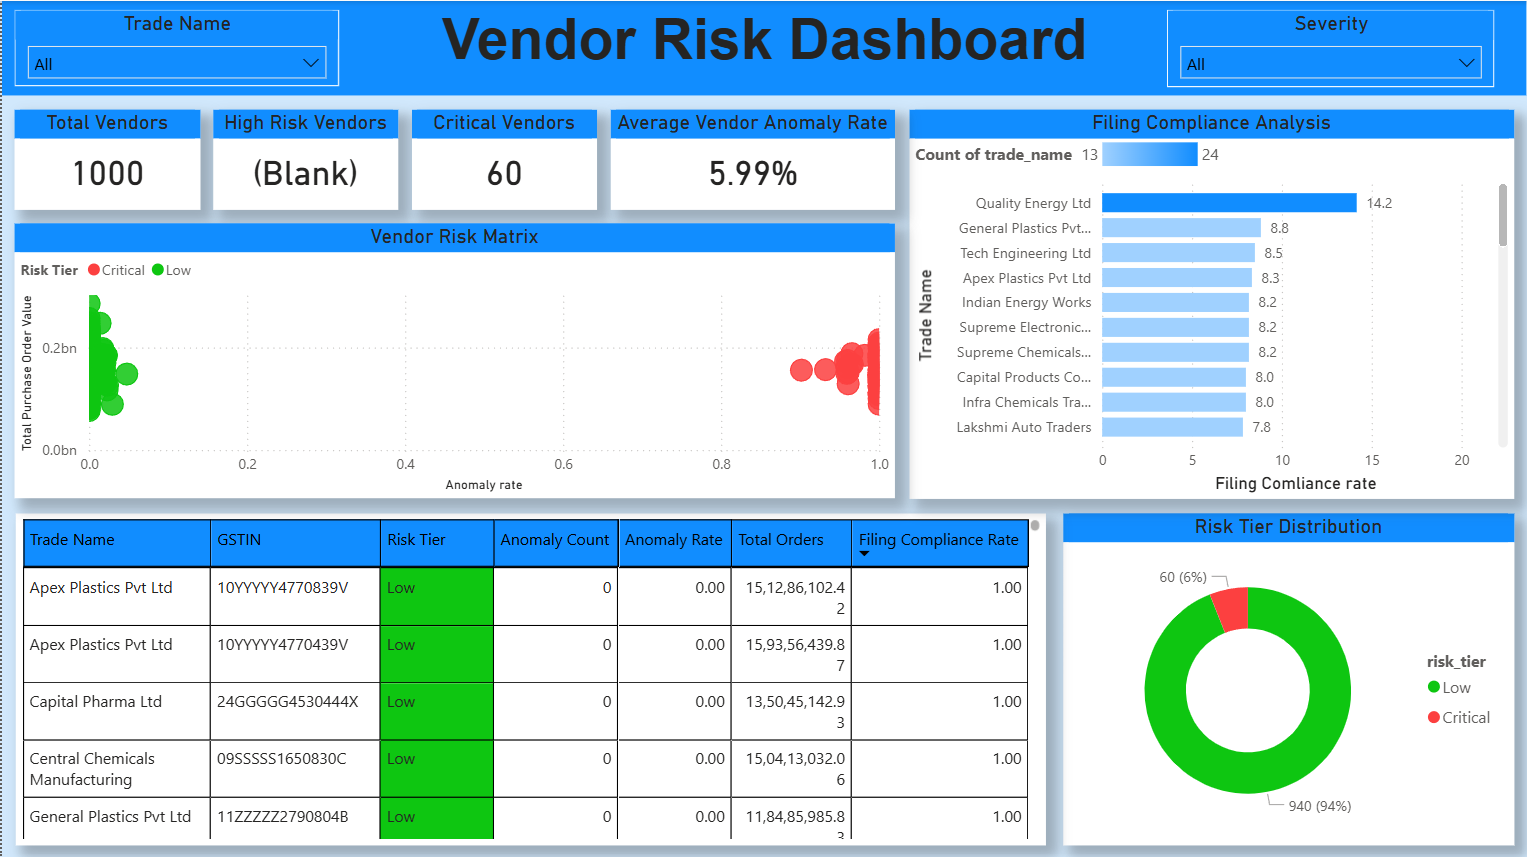

This screenshot's page, from the dashboard's own definition file:
{"tool":"powerbi","page":{"name":"Vendor Risk Dashboard","canvas":[1280,720],"ordinal":1},"visuals":[{"type":"donutChart","title":"Risk Tier Distribution","fields":{"Category":["vendor_risk.risk_tier"],"Y":["CountNonNull(vendor_risk.vendor_id)"]},"box":[890,430,378,278],"z":0},{"type":"tableEx","fields":{"Values":["vendor_risk.trade_name","vendor_risk.gstin","vendor_risk.risk_tier","vendor_risk.anomaly_count","vendor_risk.anomaly_rate","vendor_risk.total_po_value","vendor_risk.filing_compliance_rate"]},"box":[12,430,864,278],"z":1000},{"type":"barChart","title":"Filing Compliance Analysis","fields":{"Category":["vendor_risk.trade_name"],"Y":["Sum(vendor_risk.filing_compliance_rate)"]},"box":[761,91,507,326],"z":2000},{"type":"textbox","box":[0,0,1279.1,79.1],"z":3000},{"type":"slicer","title":"Severity","fields":{"Values":["vendor_risk.risk_tier"]},"box":[977.3,7.3,274.5,64.5],"z":4000},{"type":"slicer","title":"Trade Name","fields":{"Values":["vendor_risk.trade_name"]},"box":[11,7,272,64],"z":5000},{"type":"card","title":"Total Vendors","fields":{"Values":["Count(vendor_risk.vendor_id)"]},"box":[10.8,91,155.8,84.2],"z":6000},{"type":"card","title":"High Risk Vendors","fields":{"Values":["vendor_risk.High_Risk_Vendors"]},"box":[177.5,91,155,84.2],"z":7000},{"type":"card","title":"Critical Vendors","fields":{"Values":["vendor_risk.Critical_Vendors"]},"box":[344,91,155,84.2],"z":8000},{"type":"card","title":"Average Vendor Anomaly Rate","fields":{"Values":["Avg(vendor_risk.anomaly_rate)"]},"box":[511,91,238.3,84.2],"z":9000},{"type":"scatterChart","title":"Vendor Risk Matrix","fields":{"X":["vendor_risk.anomaly_rate"],"Y":["vendor_risk.total_po_value"],"Size":["CountNonNull(vendor_risk.anomaly_count)"],"Series":["vendor_risk.risk_tier"]},"box":[11,187,738.3,230],"z":10000}]}

Visuals, with their boxes in screenshot pixels (x1, y1, x2, y2), scaled from the page's 1280x720 canvas onto the 1527x857 screenshot:
"Risk Tier Distribution" donutChart: x1=1062 y1=512 x2=1513 y2=843
tableEx - vendor_risk.trade_name x vendor_risk.gstin: x1=14 y1=512 x2=1045 y2=843
"Filing Compliance Analysis" barChart: x1=908 y1=108 x2=1513 y2=496
textbox: x1=0 y1=0 x2=1526 y2=94
"Severity" slicer: x1=1166 y1=9 x2=1493 y2=85
"Trade Name" slicer: x1=13 y1=8 x2=338 y2=85
"Total Vendors" card: x1=13 y1=108 x2=199 y2=209
"High Risk Vendors" card: x1=212 y1=108 x2=397 y2=209
"Critical Vendors" card: x1=410 y1=108 x2=595 y2=209
"Average Vendor Anomaly Rate" card: x1=610 y1=108 x2=894 y2=209
"Vendor Risk Matrix" scatterChart: x1=13 y1=223 x2=894 y2=496
